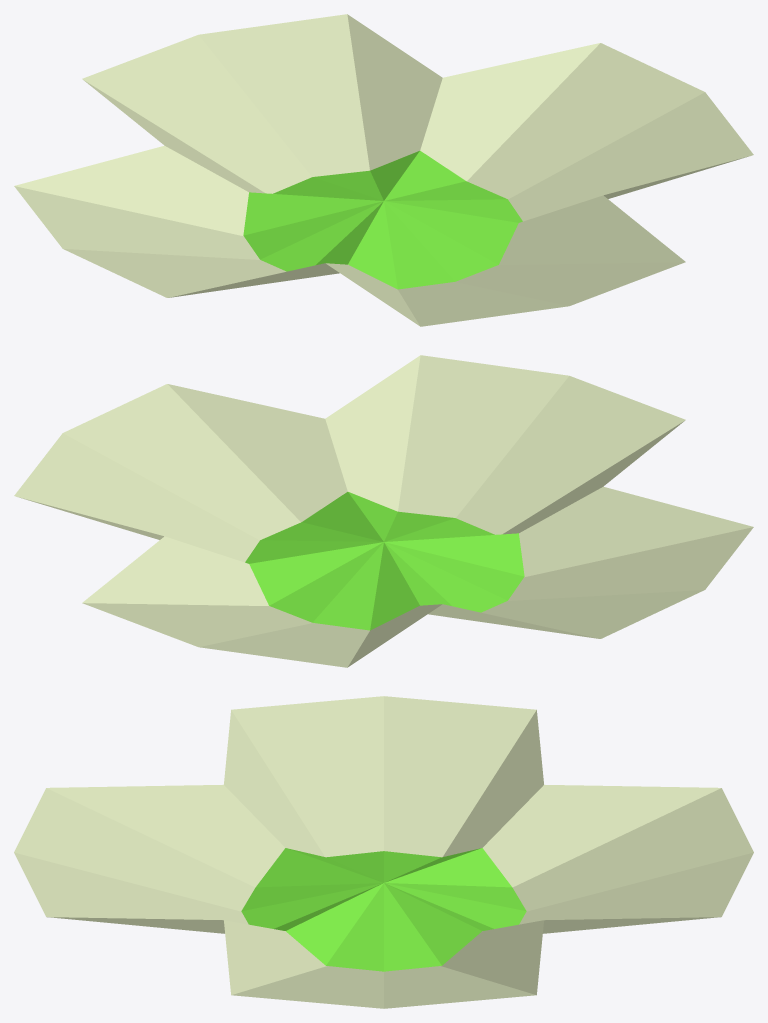
File: flower.glb
3 views of the same model, one above another, from view 1: azimuth 30°, elevation 25°; view 2: azimuth 150°, elevation 25°; view 3: azimuth 270°, elevation 25° (orthographic).
Visible parts, largest first — view 1: petals, center; view 2: petals, center; view 3: petals, center.
Boxes of the visible parts, x1,y1,x2,y2 form: petals: [14, 14, 753, 326]; center: [243, 151, 522, 289]; petals: [14, 355, 753, 667]; center: [245, 492, 524, 630]; petals: [14, 696, 753, 1008]; center: [241, 848, 526, 971].
Bounding box in the file's own units: 1.21 × 0.1738 × 1.21.
